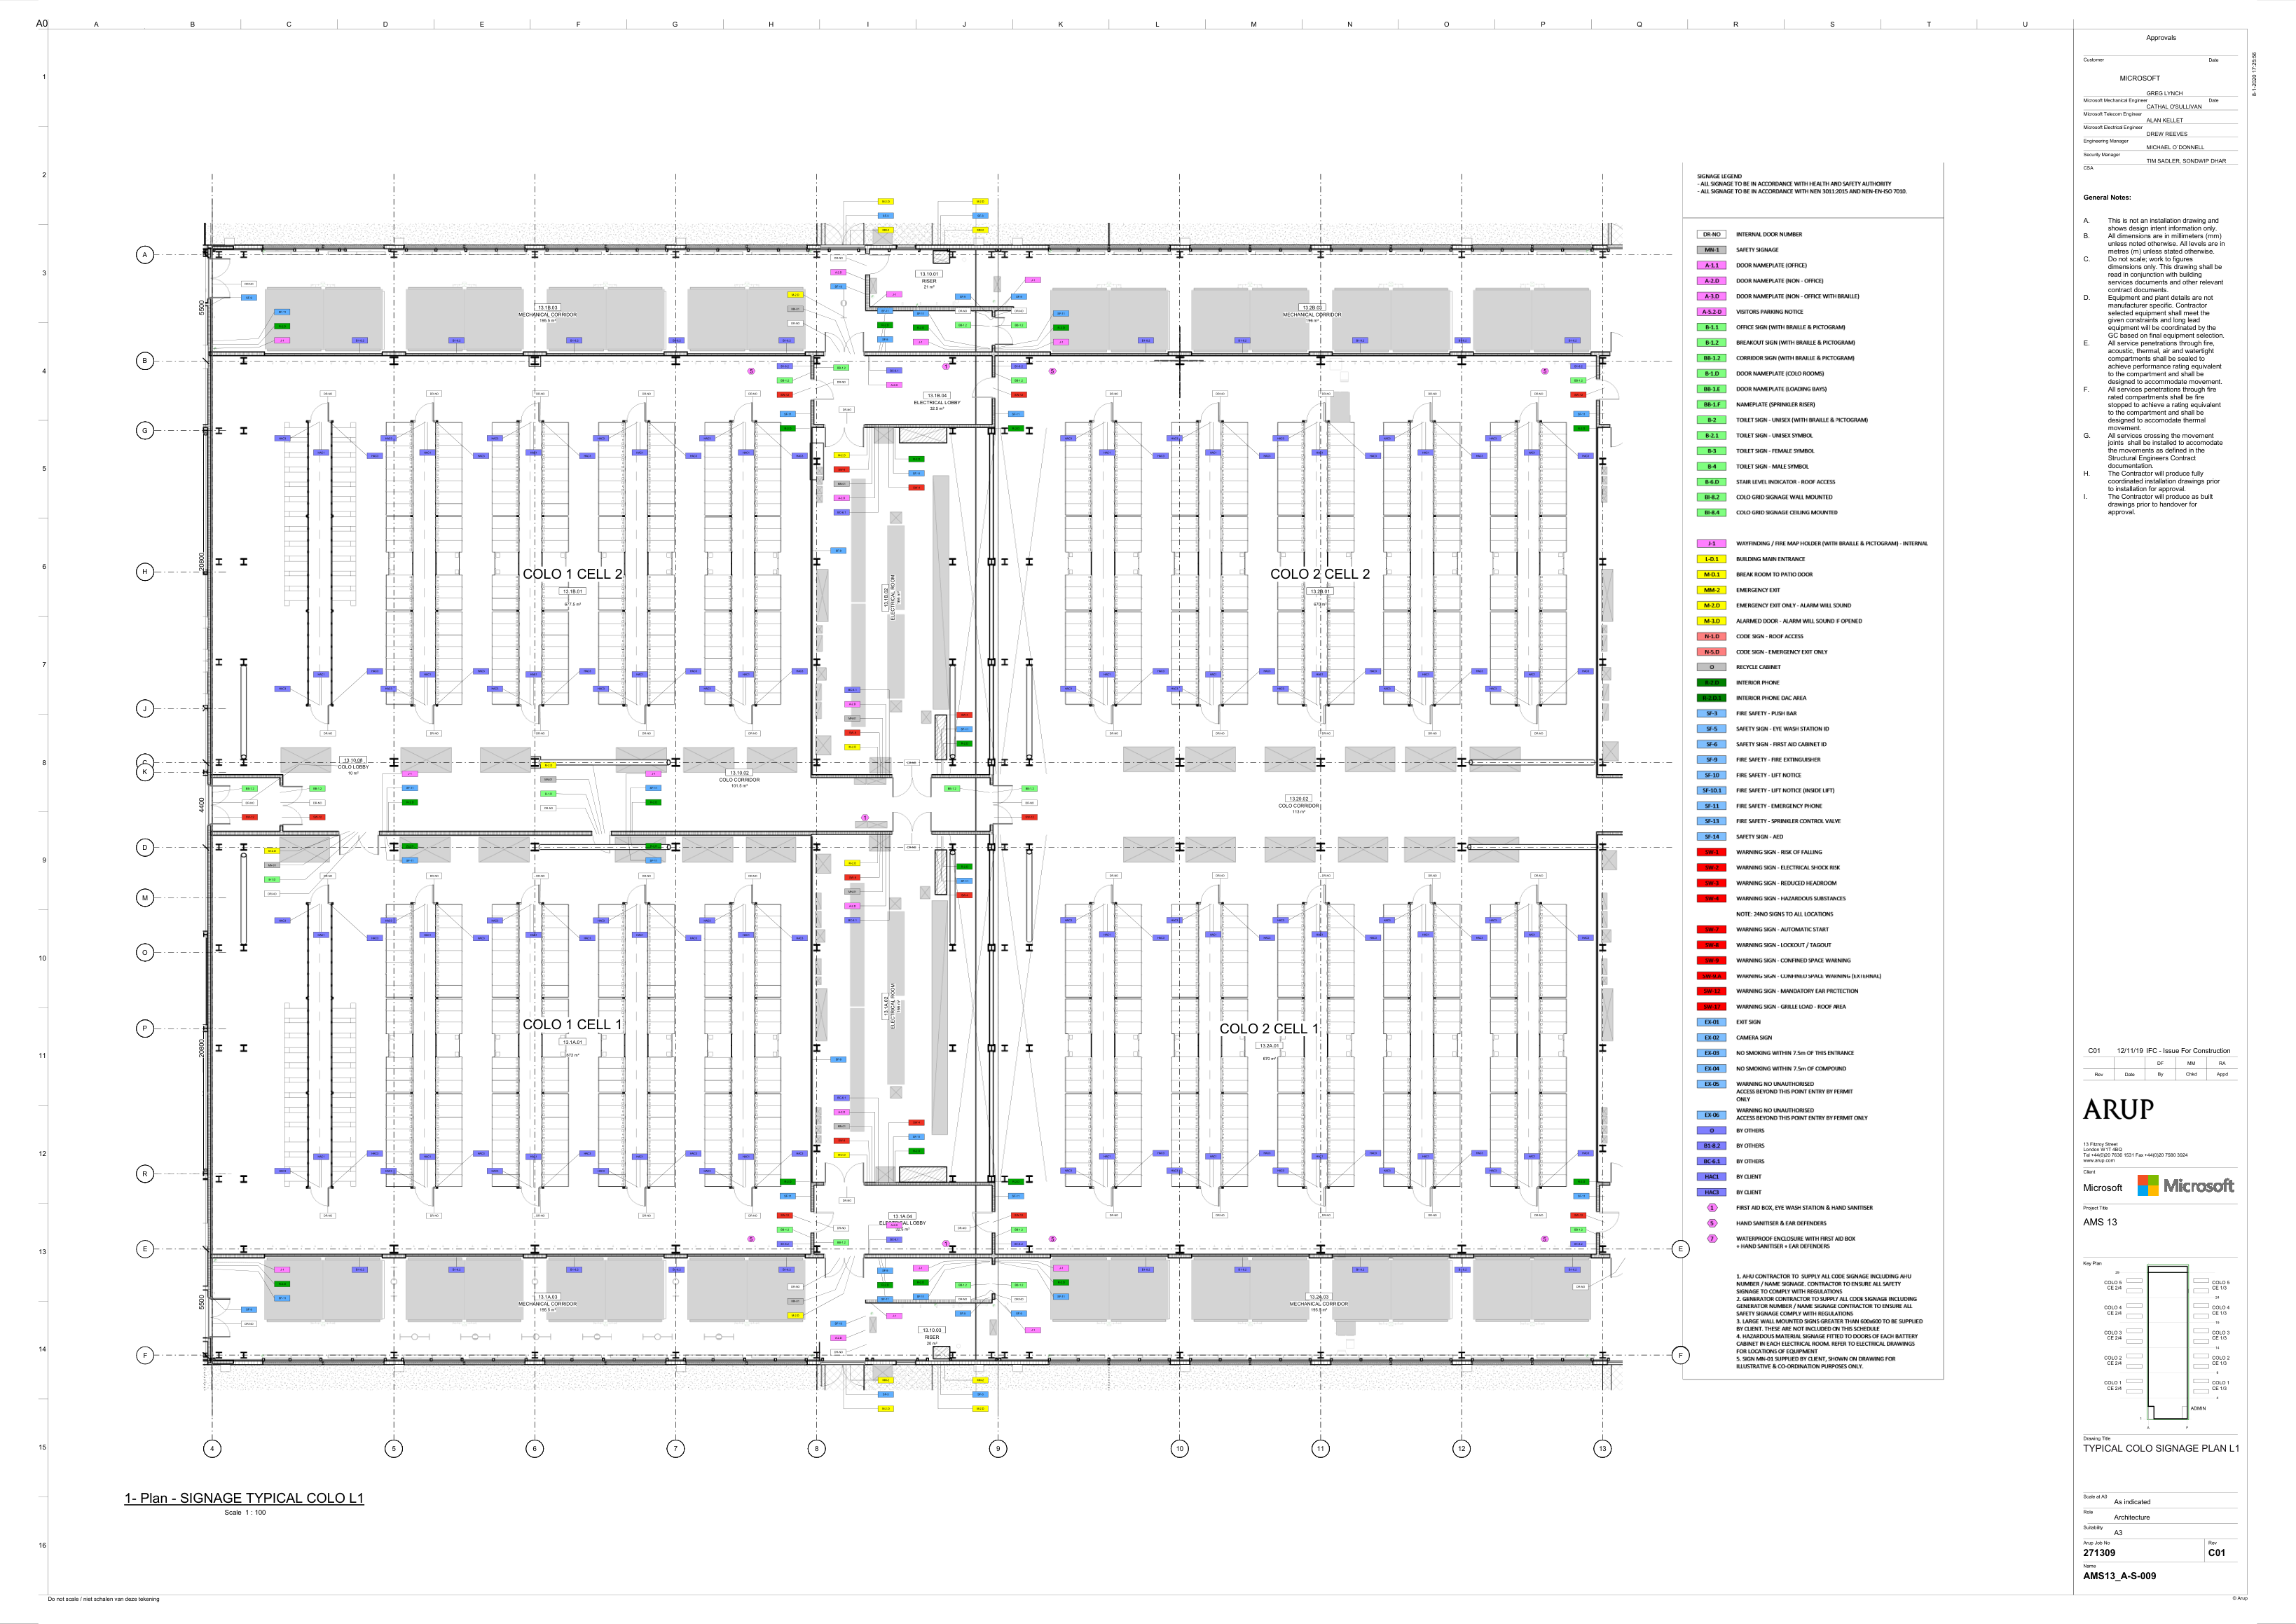Legend: (1682, 162, 1944, 1378)
